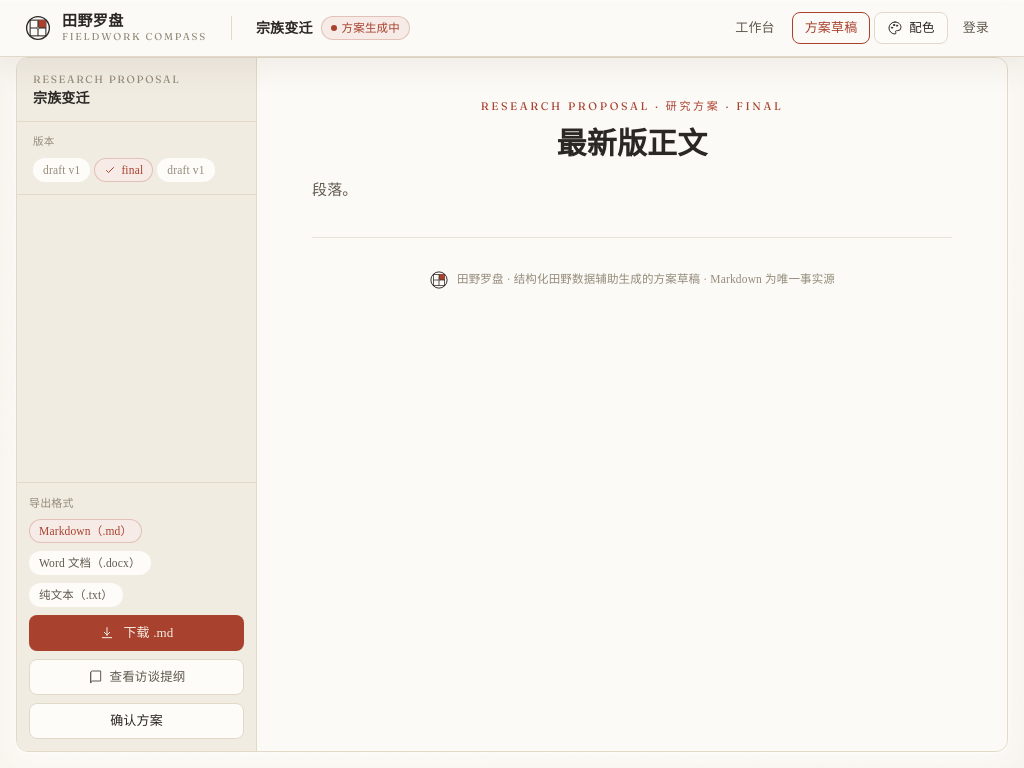
Test: ProposalView 版本/kind 加载与方案确认 › 点确认方案——POST confirm 携 doc_id、回读快照、提示阶段推进（F04/R09）
Check: the heading "最新版正文" is shown, box [557,126,707,160]
Click the button "确认方案".
click(136, 721)  # box [29,703,244,739]
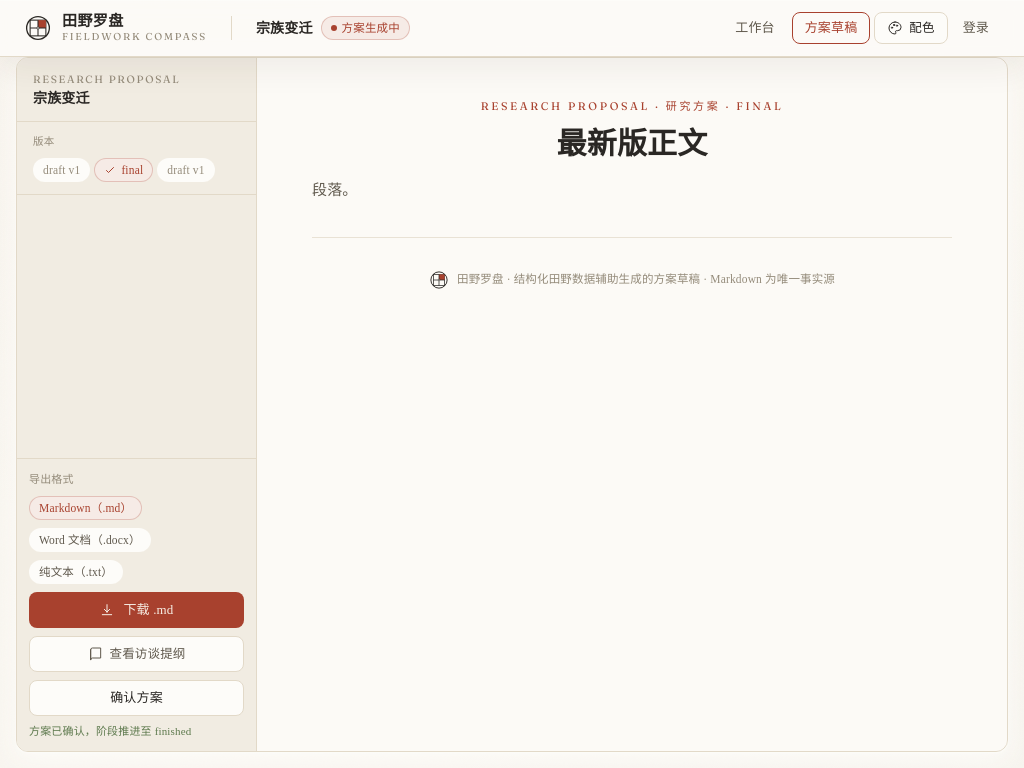
Check: the text "方案已确认，阶段推进至 finished" is shown, box [29,725,191,737]
